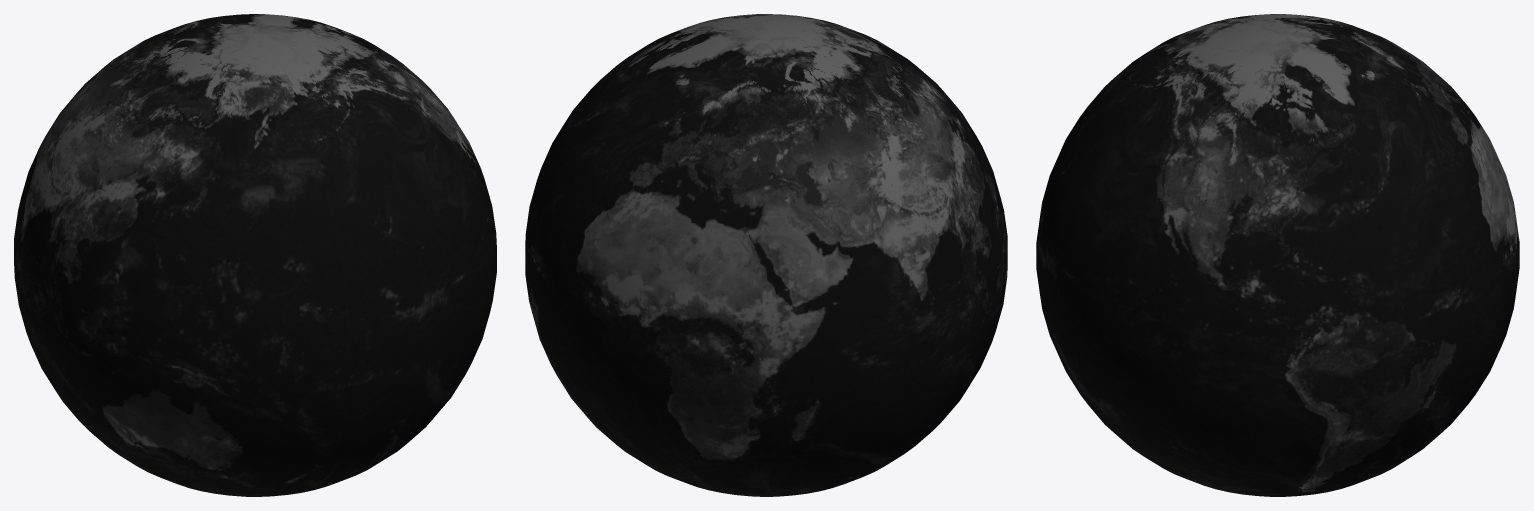
File: globe.min.gltf
3 views of the same model, side by side, from view 1: azimuth 30°, elevation 25°; view 2: azimuth 150°, elevation 25°; view 3: azimuth 270°, elevation 25° (orthographic).
Visible parts, largest first — view 1: Sphere; view 2: Sphere; view 3: Sphere.
Part boxes in pixels (x1,y1,x2,y2): Sphere: (14, 14, 496, 496); Sphere: (525, 14, 1007, 496); Sphere: (1036, 14, 1519, 496).
Bounding box in the file's own units: 0.7974 × 0.8 × 0.7984.
1 material, 1 textured.
